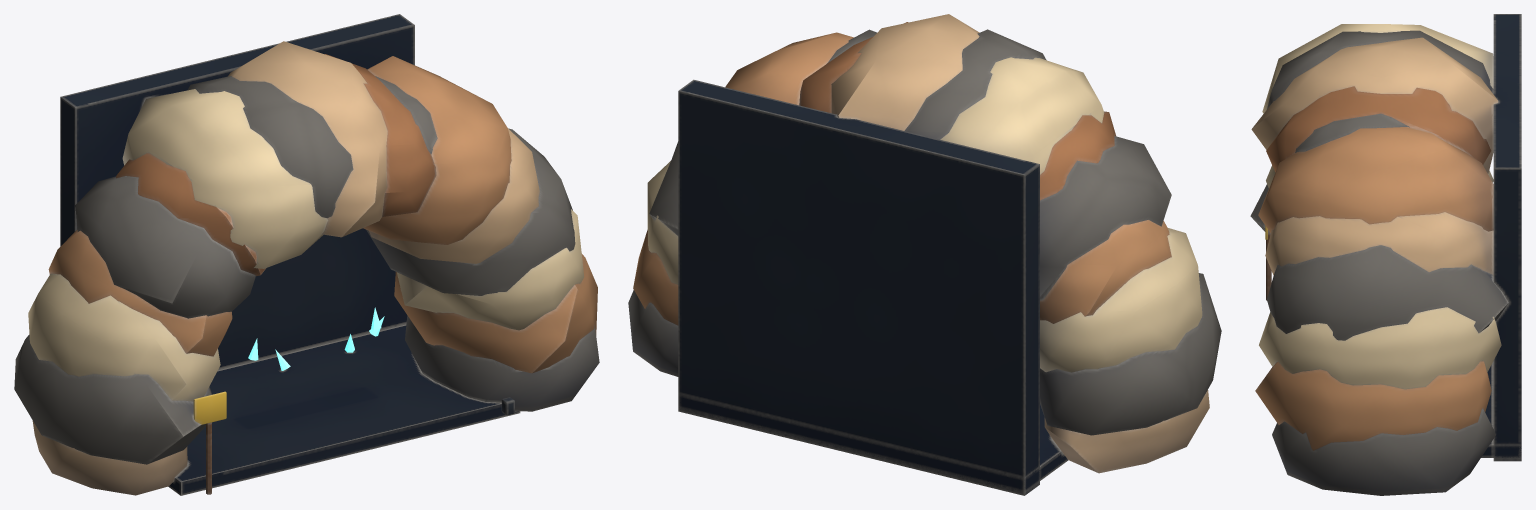
Rendered from cave_arch.glb.
The picture shows the model from 3 angles, left to right: view 1: azimuth 30°, elevation 25°; view 2: azimuth 150°, elevation 25°; view 3: azimuth 270°, elevation 25°; orthographic projection. The views are drawn at different scales.
Parts seen in each view (by area): view 1: SM_CaveArch; view 2: SM_CaveArch; view 3: SM_CaveArch.
Boxes of the visible parts, x1,y1,x2,y2 form: SM_CaveArch: (14,14,599,495); SM_CaveArch: (628,14,1221,495); SM_CaveArch: (1250,14,1521,495).
Size of what is drawn, in the model's own units: 8.34 by 5.29 by 3.86.
3 materials, 1 textured.
